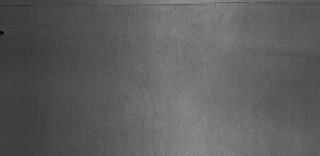punching hole: (1, 29, 5, 37)
welding line: (1, 0, 318, 7)
